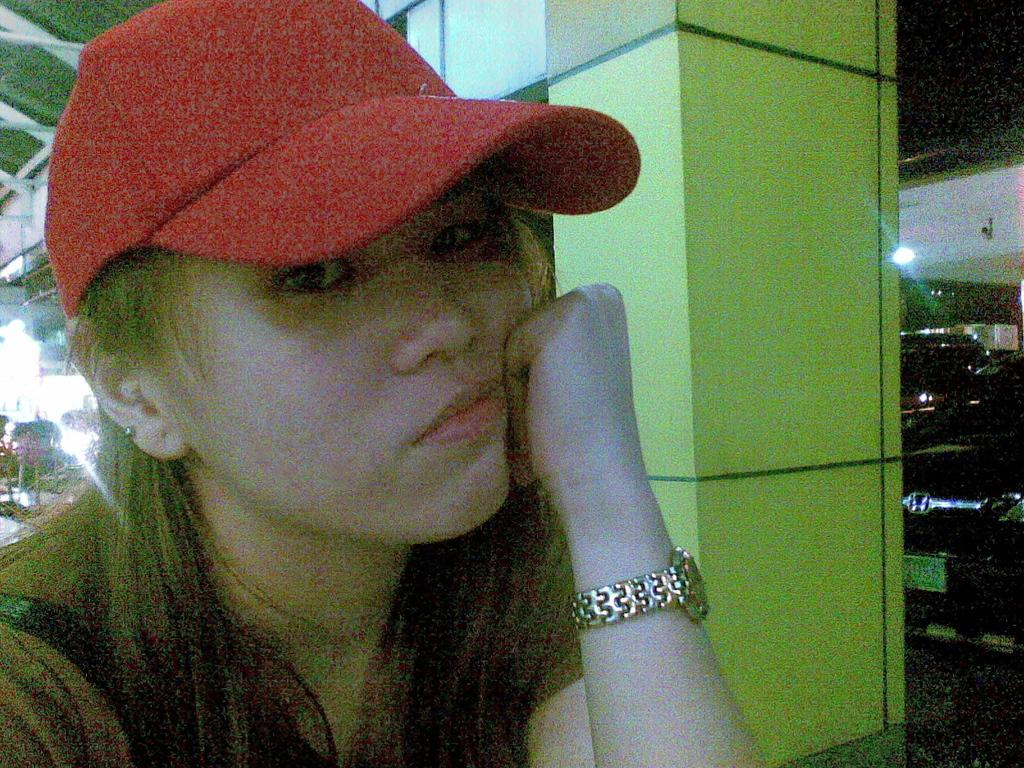Hat: (44, 0, 640, 320)
